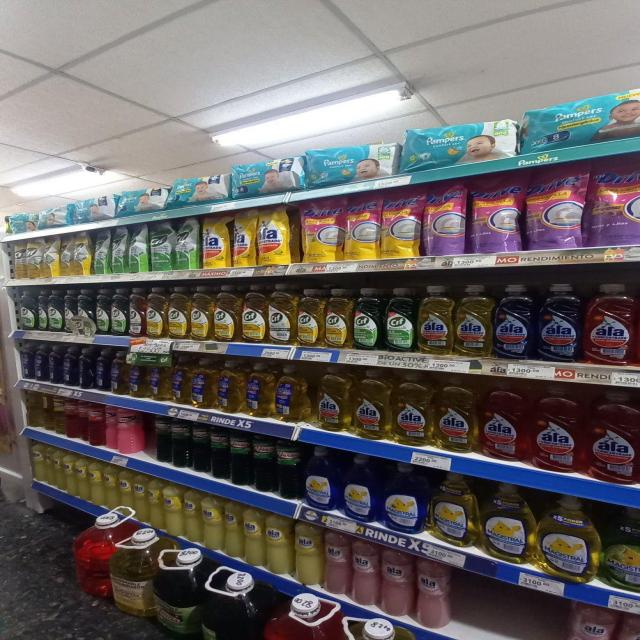ala_conc_amarillo: (435, 375, 478, 452), (392, 371, 433, 446), (454, 283, 492, 357), (353, 368, 390, 440), (314, 364, 352, 432), (417, 285, 453, 355)
ala_conc_azul: (537, 283, 582, 362), (493, 284, 535, 359)
ala_conc_rojo: (586, 390, 640, 483), (530, 383, 583, 473), (583, 282, 638, 366), (480, 379, 527, 461)
ala_crem_amarillo: (295, 521, 323, 587), (266, 514, 292, 576), (243, 508, 264, 566), (202, 495, 223, 551), (163, 482, 183, 538), (224, 500, 242, 560), (184, 489, 201, 545), (133, 472, 148, 524), (148, 478, 162, 531), (119, 468, 133, 518), (104, 464, 118, 511)
ala_crem_rosado: (416, 559, 451, 628), (381, 549, 414, 618), (352, 541, 380, 608), (566, 604, 615, 640), (324, 531, 351, 596)
ala_sachet_amarillo: (257, 205, 294, 266), (200, 213, 228, 268), (231, 209, 256, 267)
cif_conc_bot_amarilla: (268, 283, 296, 346), (324, 287, 352, 349), (297, 286, 323, 348), (240, 283, 266, 344), (213, 284, 239, 342), (190, 285, 212, 341), (167, 286, 188, 340), (146, 286, 166, 339), (128, 287, 145, 337)
cif_conc_botella_verde: (384, 286, 416, 353), (353, 287, 383, 351), (16, 288, 36, 330), (111, 288, 127, 336), (78, 288, 94, 335), (47, 289, 63, 332), (96, 289, 110, 335), (36, 289, 46, 331)
cif_conc_sachet_amarillo: (72, 231, 92, 276), (26, 238, 43, 278), (44, 235, 59, 278), (59, 233, 72, 276), (12, 241, 25, 279)
cif_conc_sachet_verde: (175, 217, 199, 270), (150, 220, 173, 271), (128, 223, 148, 273), (110, 226, 127, 274), (93, 228, 109, 275)
drive: (526, 162, 586, 250), (587, 155, 640, 246), (470, 172, 523, 254), (381, 186, 422, 258), (300, 197, 341, 262), (344, 192, 380, 260)
magistral_con_amarillo: (537, 496, 599, 580), (482, 483, 534, 562), (430, 473, 480, 546)
magistral_con_azul: (382, 463, 427, 533), (342, 454, 380, 522)
zorro: (275, 363, 311, 422), (245, 361, 274, 418), (217, 359, 244, 414), (189, 358, 215, 409), (168, 358, 188, 405), (147, 360, 166, 401)
